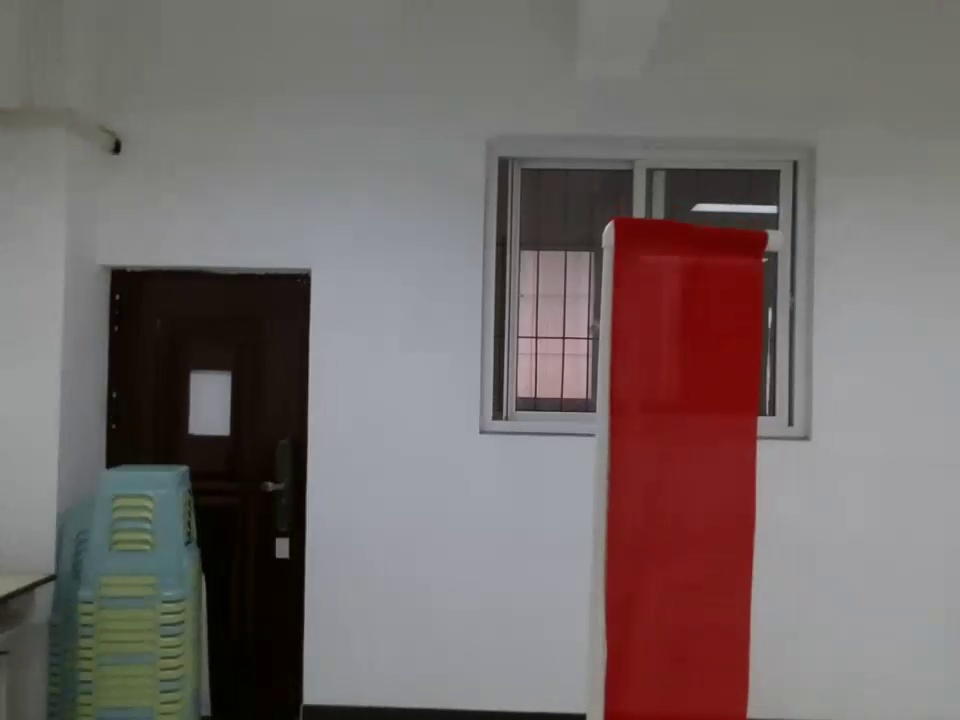qi: (602, 212, 775, 720)
